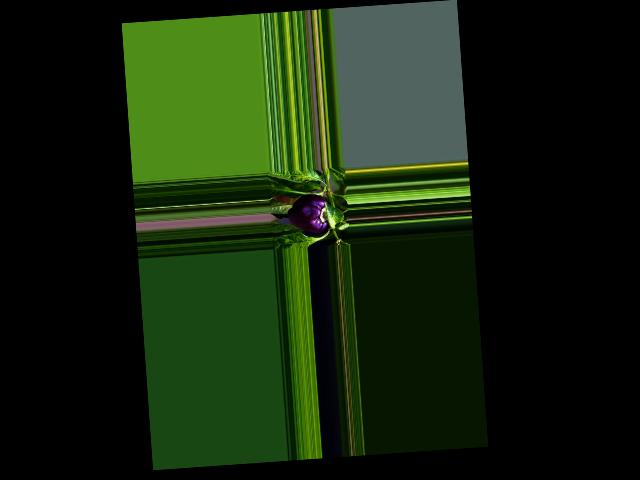bell_pepper: (284, 191, 333, 234)
